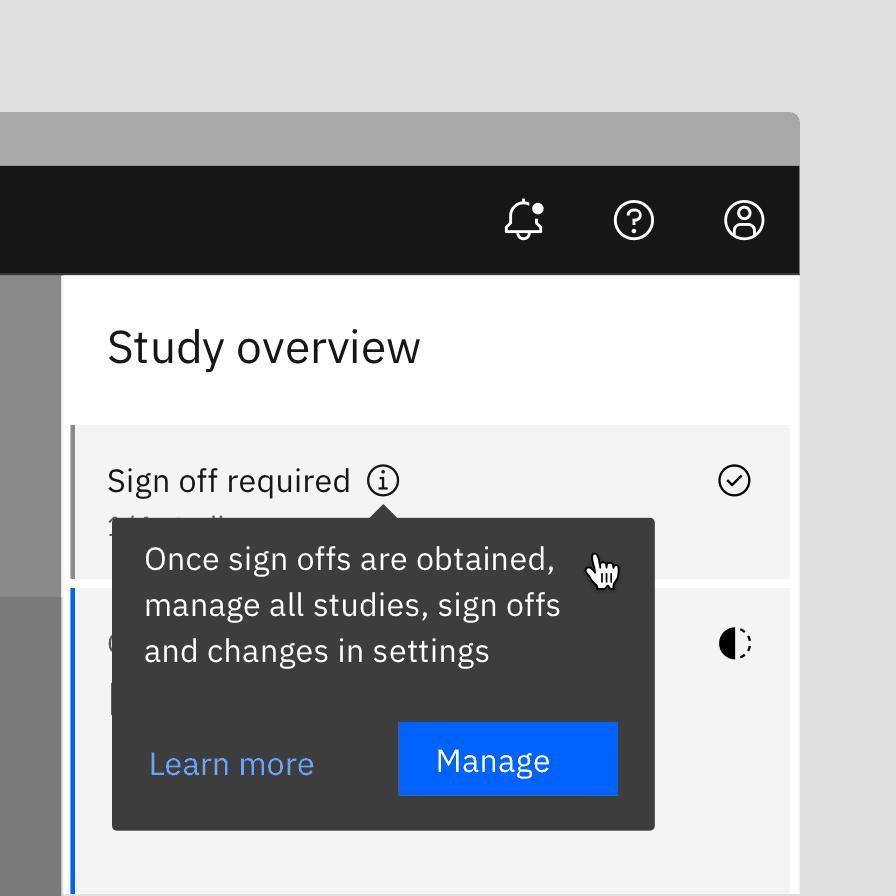button: (396, 723, 622, 799)
icon: (502, 197, 548, 242), (614, 200, 658, 242), (725, 200, 768, 241), (718, 626, 757, 664), (365, 462, 403, 500)
label: (144, 751, 318, 785)
radio: (717, 465, 756, 500)
